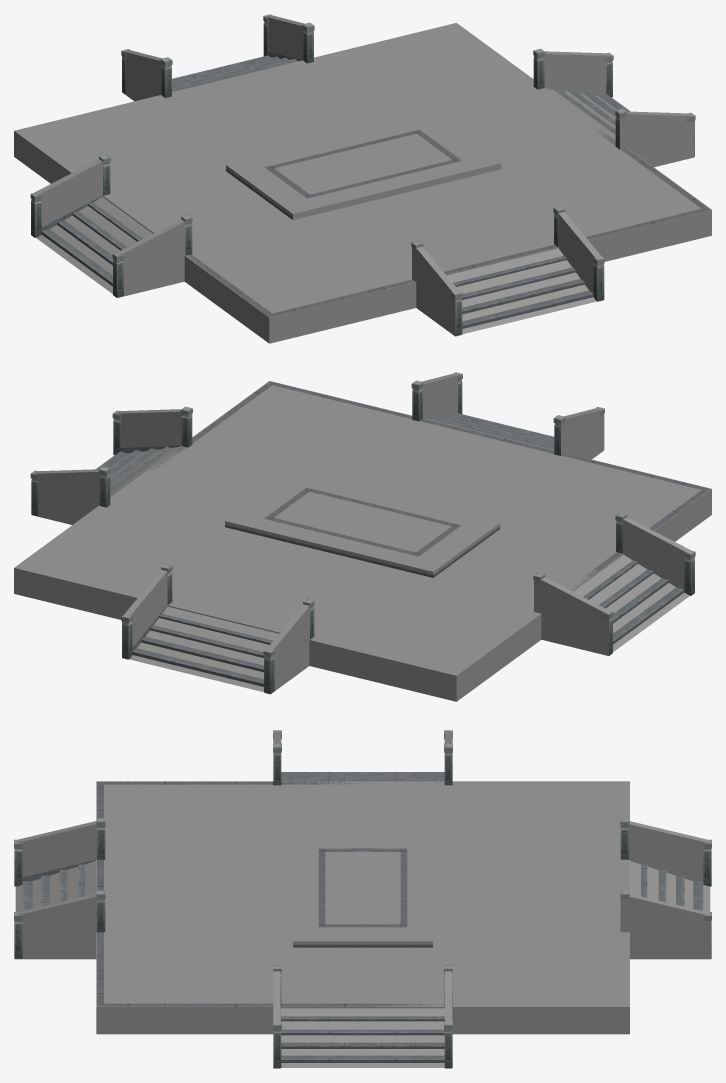
Rendered from Scene_Build_LiangShan_ShiTai_1.FBX.
The picture shows the model from 3 angles, top to bottom: view 1: azimuth 30°, elevation 25°; view 2: azimuth 150°, elevation 25°; view 3: azimuth 270°, elevation 25°; orthographic projection. The views are drawn at different scales.
Visible parts, largest first — view 1: Scene_Build_LiangShan_ShiTai_1_Xzm, Scene_Build_LiangShan_ShiTai_1; view 2: Scene_Build_LiangShan_ShiTai_1_Xzm, Scene_Build_LiangShan_ShiTai_1; view 3: Scene_Build_LiangShan_ShiTai_1_Xzm, Scene_Build_LiangShan_ShiTai_1.
Boxes of the visible parts, <box> form: Scene_Build_LiangShan_ShiTai_1_Xzm: <box>14,15,711,343</box>; Scene_Build_LiangShan_ShiTai_1: <box>30,14,710,335</box>; Scene_Build_LiangShan_ShiTai_1_Xzm: <box>14,373,711,701</box>; Scene_Build_LiangShan_ShiTai_1: <box>30,372,710,693</box>; Scene_Build_LiangShan_ShiTai_1_Xzm: <box>14,731,711,1068</box>; Scene_Build_LiangShan_ShiTai_1: <box>14,730,711,1067</box>.
Size of the model in its own units: 1739 by 179 by 1739.
